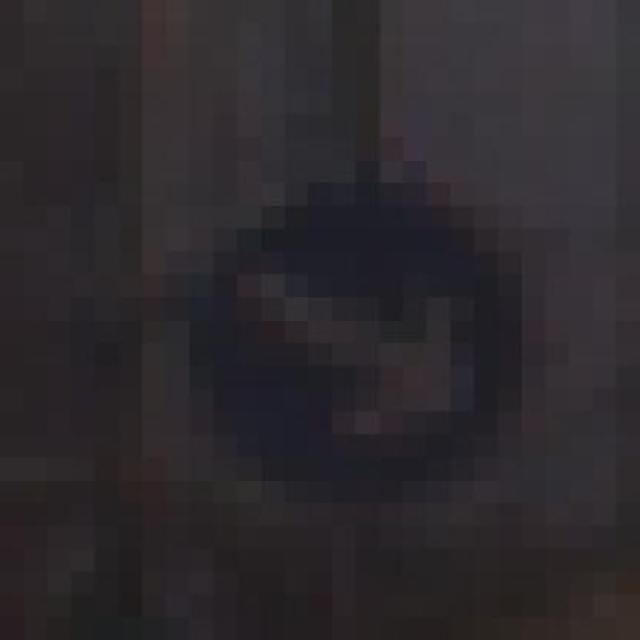Keep-Right: (166, 137, 522, 503)
